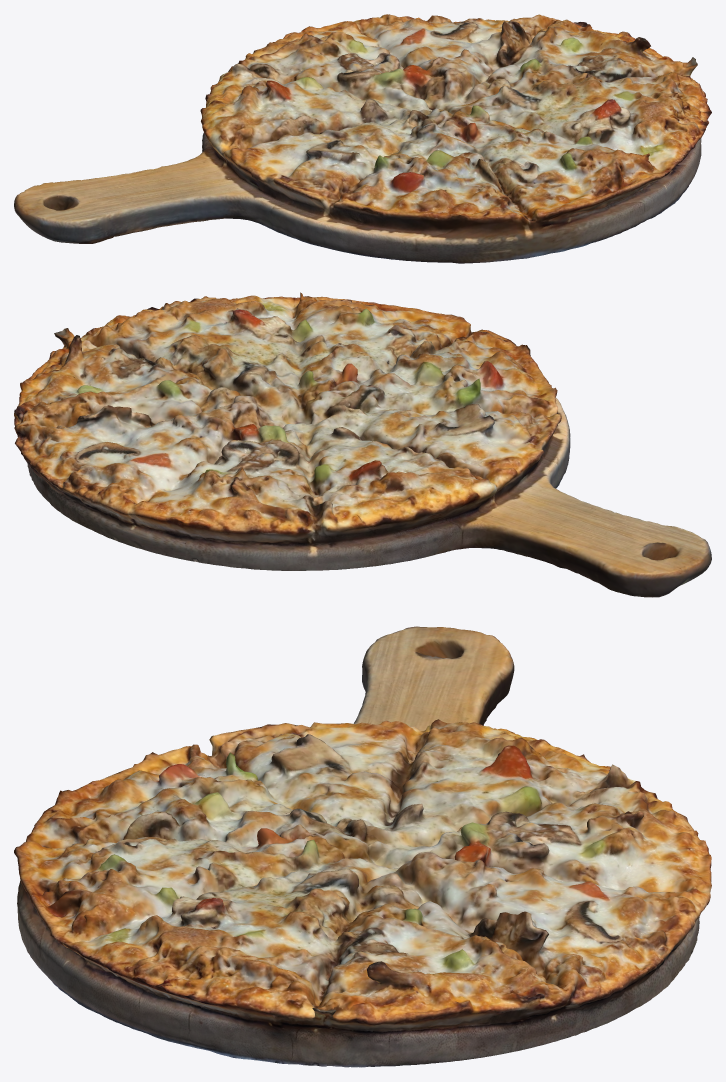
The model's file is Pizza.Rostbeef.glb.
The picture shows the model from 3 angles, top to bottom: view 1: azimuth 30°, elevation 25°; view 2: azimuth 150°, elevation 25°; view 3: azimuth 270°, elevation 25°; orthographic projection. The views are drawn at different scales.
Parts seen in each view (by area): view 1: 3DModel; view 2: 3DModel; view 3: 3DModel.
Boxes of the visible parts, x1,y1,x2,y2 form: 3DModel: (14, 14, 711, 263); 3DModel: (14, 292, 711, 597); 3DModel: (14, 626, 711, 1067).
Bounding box in the file's own units: 0.4509 × 0.0473 × 0.3126.
Materials: 1 (1 with a texture image).
